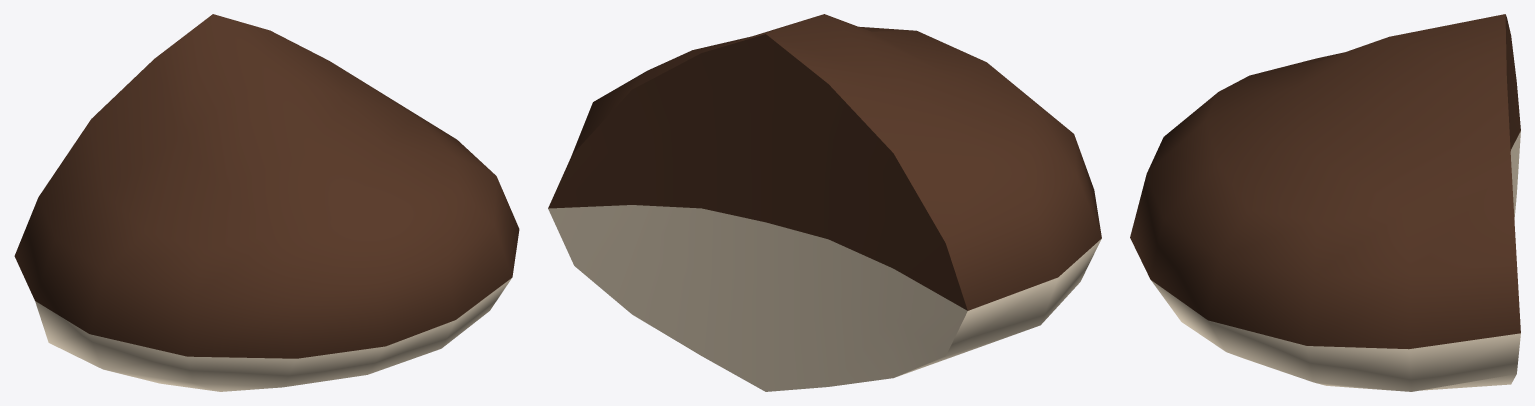
Rendered from Artists_Conk_Small.fbx.
The picture shows the model from 3 angles, left to right: view 1: azimuth 30°, elevation 25°; view 2: azimuth 150°, elevation 25°; view 3: azimuth 270°, elevation 25°; orthographic projection. The views are drawn at different scales.
Visible parts, largest first — view 1: Artists_Conk_Small; view 2: Artists_Conk_Small; view 3: Artists_Conk_Small.
Boxes of the visible parts, left/top/right/bottom form: Artists_Conk_Small: left=14, top=14, right=519, bottom=391; Artists_Conk_Small: left=548, top=14, right=1101, bottom=391; Artists_Conk_Small: left=1130, top=14, right=1520, bottom=391.
Bounding box in the file's own units: 30.93 × 21.69 × 21.68.
1 material, 1 textured.
